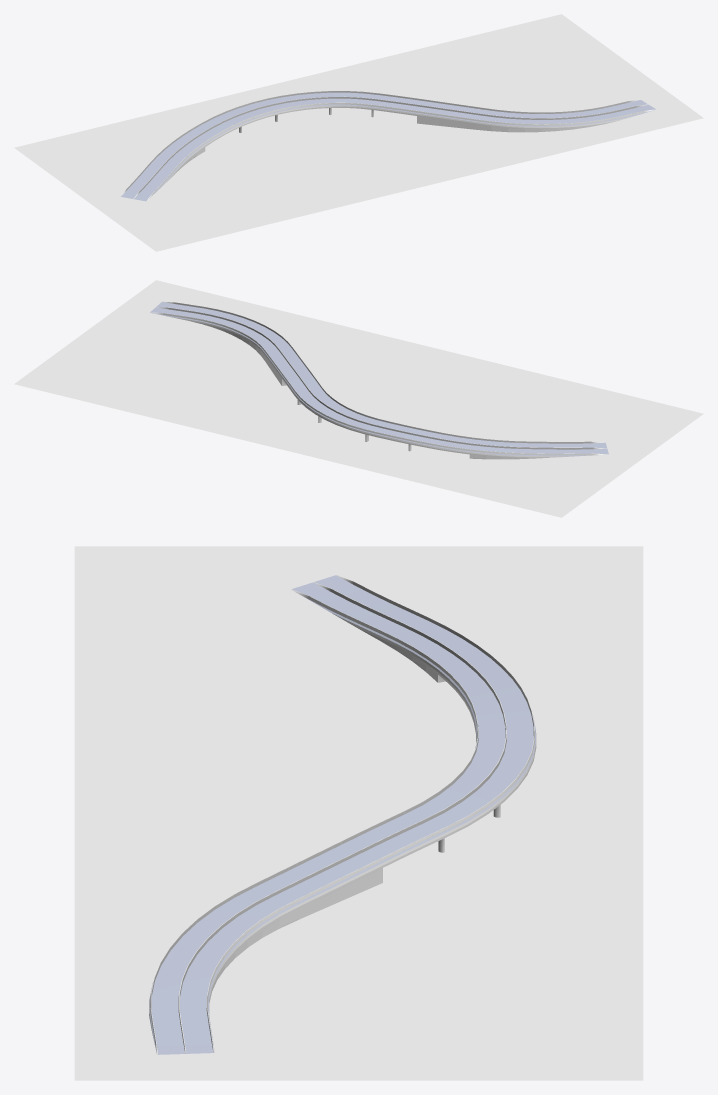
The model's file is Zhandosova-Satpaeva.glb.
The picture shows the model from 3 angles, top to bottom: view 1: azimuth 30°, elevation 25°; view 2: azimuth 150°, elevation 25°; view 3: azimuth 270°, elevation 25°; orthographic projection. The views are drawn at different scales.
Visible parts, largest first — view 1: group_0, group_3, group_1.001, group_1, group_1.003; view 2: group_0, group_3, group_1.001, group_1, group_1.002; view 3: group_0, group_1.001, group_1, group_3, group_1.002.
Part boxes in pixels (box(x1,y1,x2,y2)): group_0: box(14, 14, 703, 251); group_3: box(120, 91, 656, 201); group_1.001: box(121, 92, 647, 198); group_1: box(134, 98, 655, 201); group_1.003: box(149, 104, 655, 198); group_0: box(14, 280, 703, 517); group_3: box(150, 301, 608, 459); group_1.001: box(150, 307, 608, 454); group_1: box(156, 302, 606, 448); group_1.002: box(150, 312, 604, 456); group_0: box(74, 546, 643, 1080); group_1.001: box(180, 575, 533, 1053); group_1: box(151, 582, 505, 1054); group_3: box(149, 575, 536, 1054); group_1.002: box(208, 715, 535, 1051).
Size of the model in its own units: 368 by 9.23 by 165.
4 materials, 3 textured.
